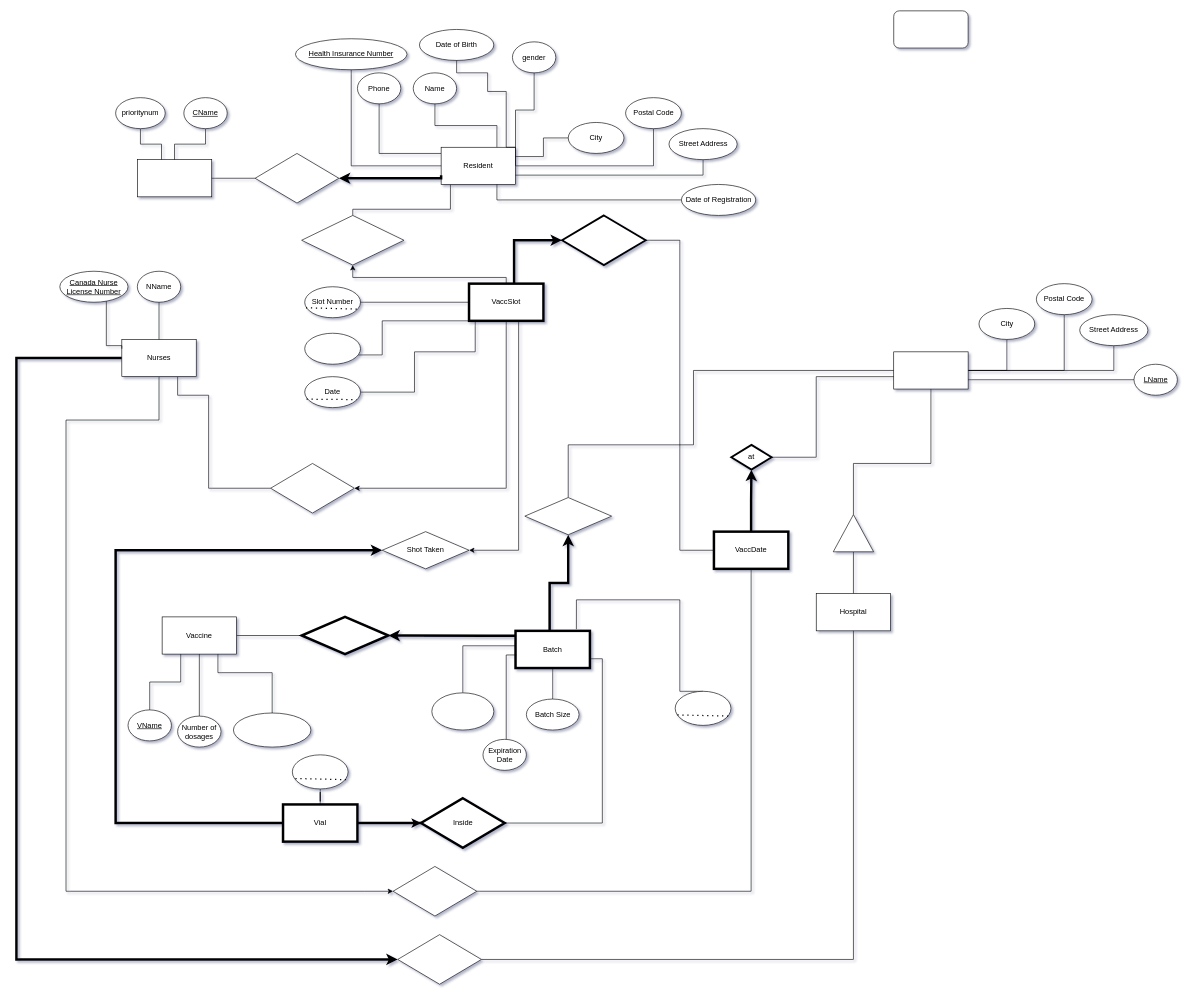
Some shapes in this 1192 by 999 pixel diagram are drawn without their labels. Each missing label, with the centre of its shape:
"admins" belongs at [312,488].
"assigned" belongs at [352,240].
"Assigned At" belongs at [434,891].
"Batch Number" belongs at [703,708].
"belongsto" belongs at [297,178].
"category" belongs at [174,178].
"Contains Vaccine" belongs at [344,635].
"Employed At" belongs at [439,959].
"ISA" belongs at [853,533].
"Manufacturing Date" belongs at [462,711].
"on" belongs at [603,240].
"Philip Tam 260849613" belongs at [930,29].
"storedat" belongs at [568,516].
"Time" belongs at [332,348].
"Vaccine Location" belongs at [930,370].
"Vial Number" belongs at [320,771].
"Waiting period between dosages" belongs at [272,729].
